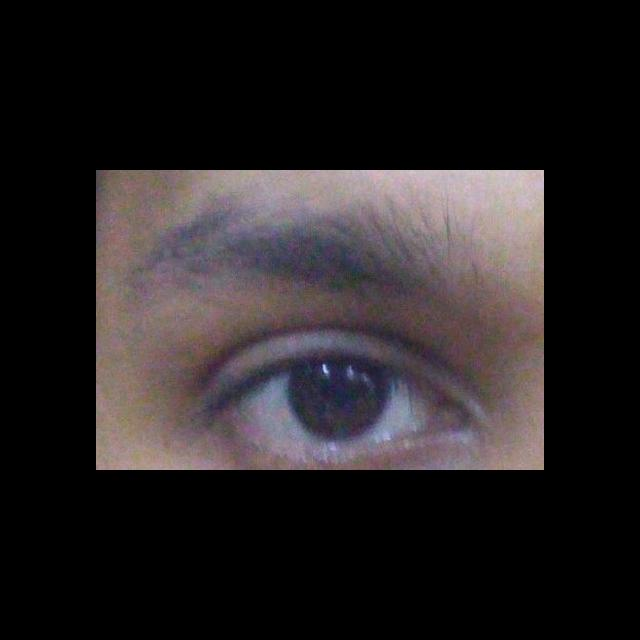eye: (235, 359, 435, 447)
iris: (287, 361, 388, 443)
